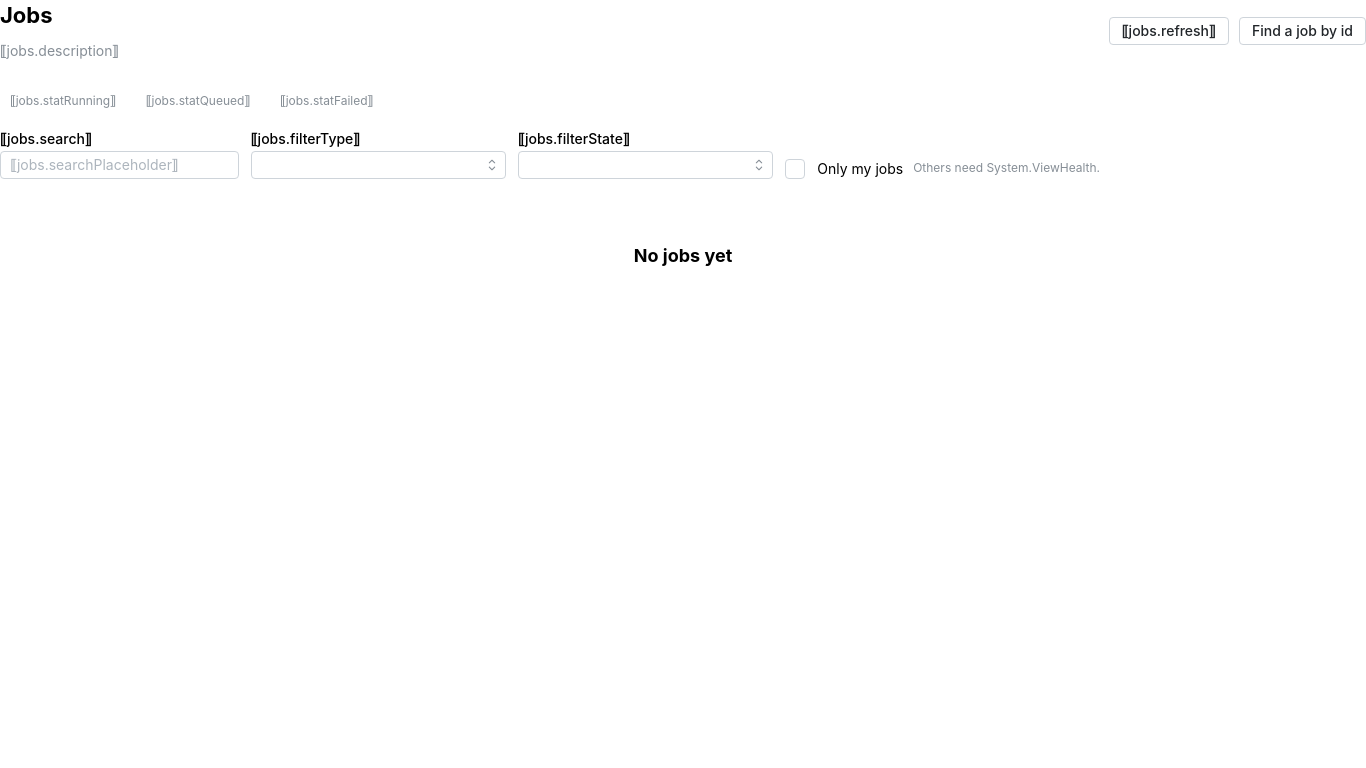
Test case: JobsPage: рівно один порожній стан (U-09) › задачі не обрано і журнал порожній — на екрані лише «No jobs yet»
The width and height of the screenshot is (1366, 768).
Expected: the heading "No jobs yet" is shown, [634,243,732,269]
Expected: the heading "Enter a job id" is not shown
Click the button "Find a job by id": (1302, 30) [1239,16,1365,44]
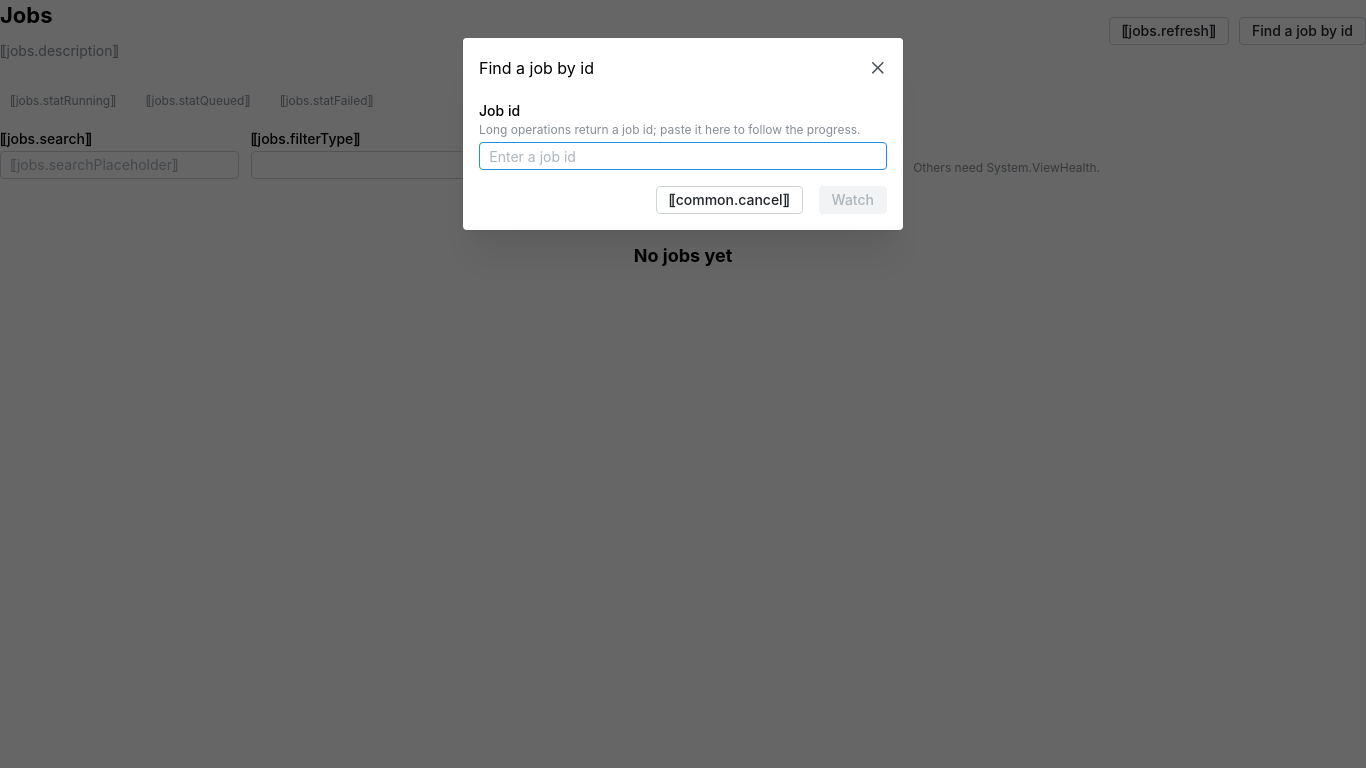
Expected: the text "Long operations return a job id; paste it here to follow the progress." is shown, [479,123,887,138]
